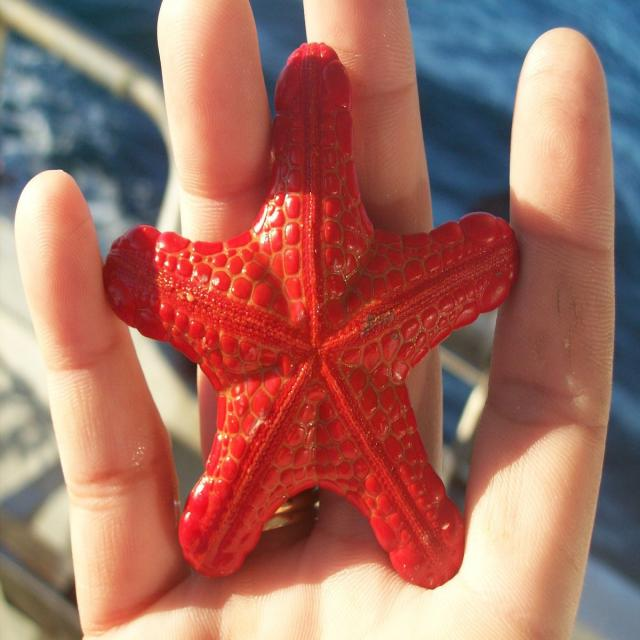starfish: (104, 43, 518, 588)
